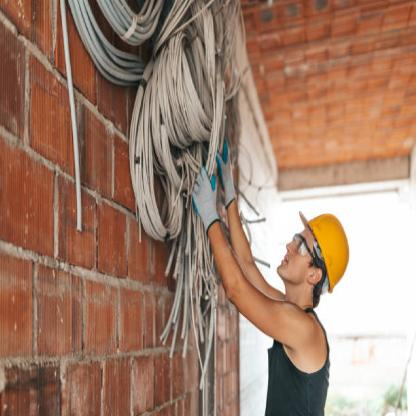capacete: (299, 205, 354, 297)
oculos: (291, 229, 314, 263)
